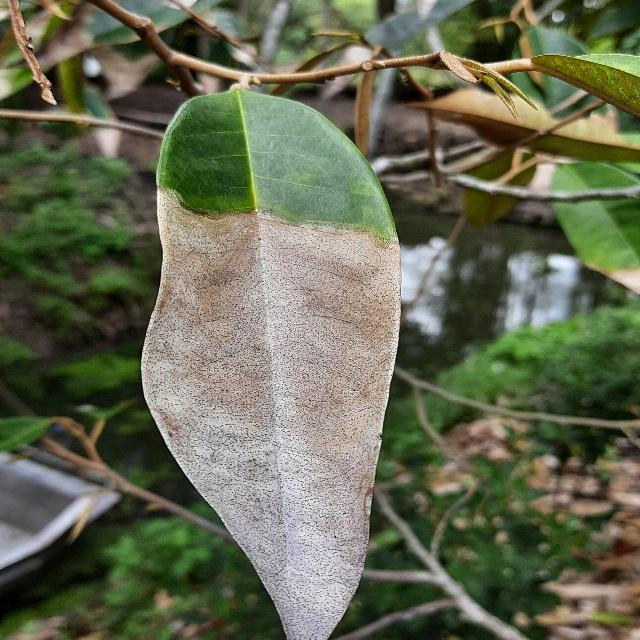Leaf Blight: (135, 79, 411, 640)
